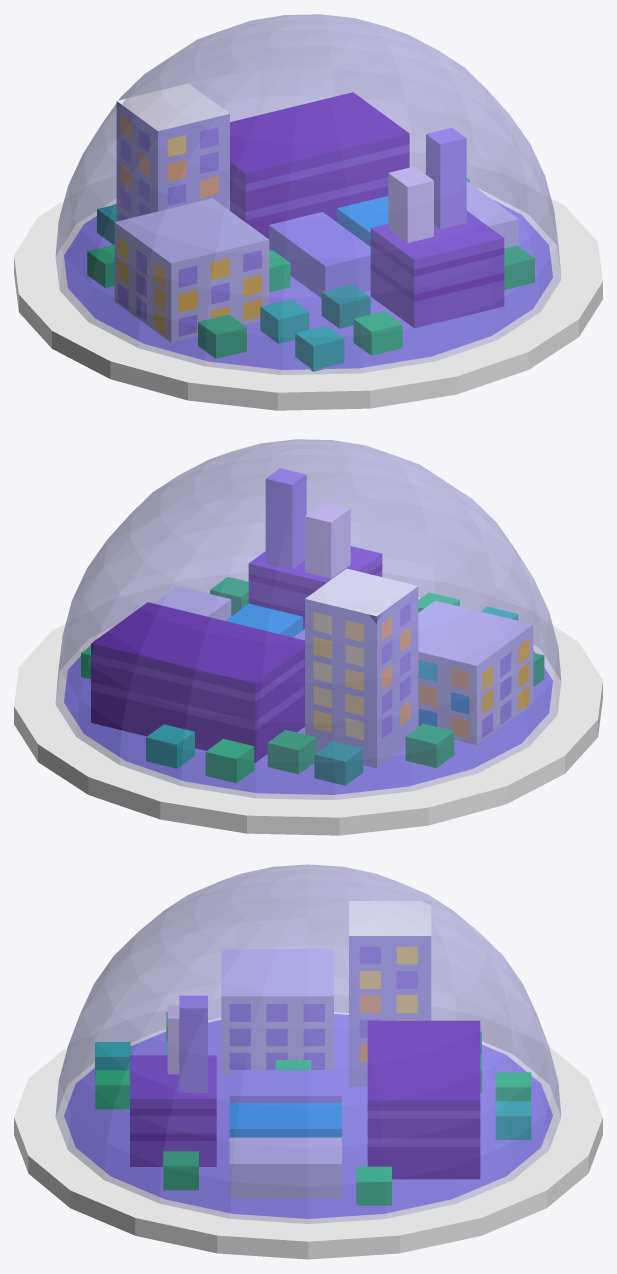
File: Building_05.fbx
3 views of the same model, one above another, from view 1: azimuth 30°, elevation 25°; view 2: azimuth 150°, elevation 25°; view 3: azimuth 270°, elevation 25° (orthographic).
Visible parts, largest first — view 1: Building_05; view 2: Building_05; view 3: Building_05.
Boxes of the visible parts, x1,y1,x2,y2 form: Building_05: (14, 14, 602, 410); Building_05: (14, 439, 602, 835); Building_05: (14, 864, 602, 1259).
Size of the model in its own units: 138 by 63.84 by 138.
